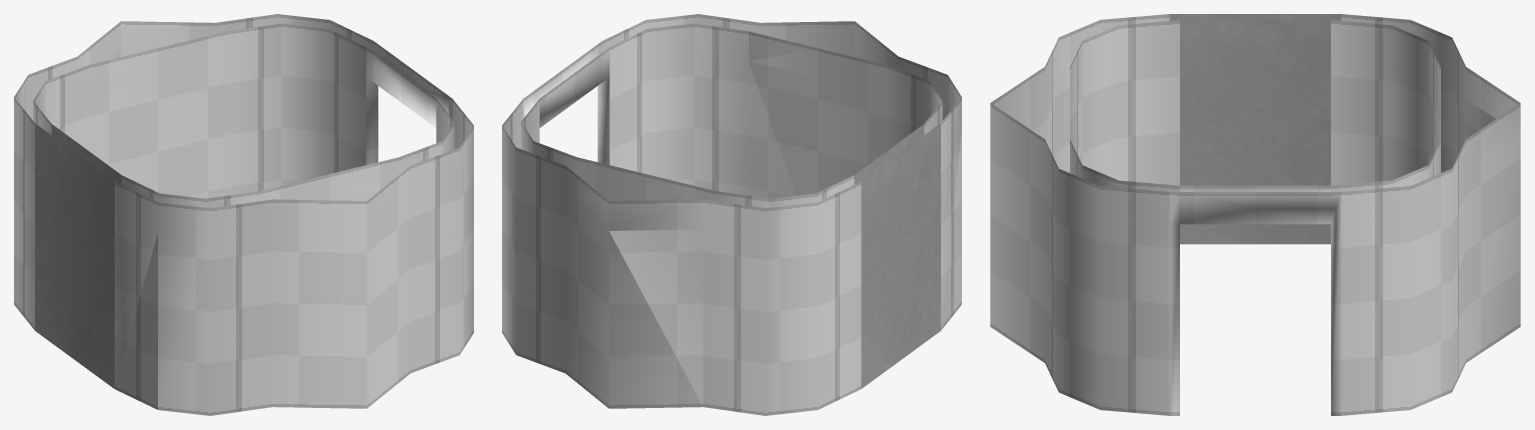
The model's file is Pre_Elevator_ent.FBX.
3 renders of one model, left to right at view 1: azimuth 30°, elevation 25°; view 2: azimuth 150°, elevation 25°; view 3: azimuth 270°, elevation 25°, orthographic. The views are drawn at different scales.
Visible parts, largest first — view 1: Pre_Elevator_ent; view 2: Pre_Elevator_ent; view 3: Pre_Elevator_ent.
Part boxes in pixels (x1,y1,x2,y2): Pre_Elevator_ent: (14, 14, 473, 415); Pre_Elevator_ent: (502, 14, 961, 415); Pre_Elevator_ent: (990, 14, 1520, 415).
Size of the model in its own units: 6.82 by 4 by 8.58.
